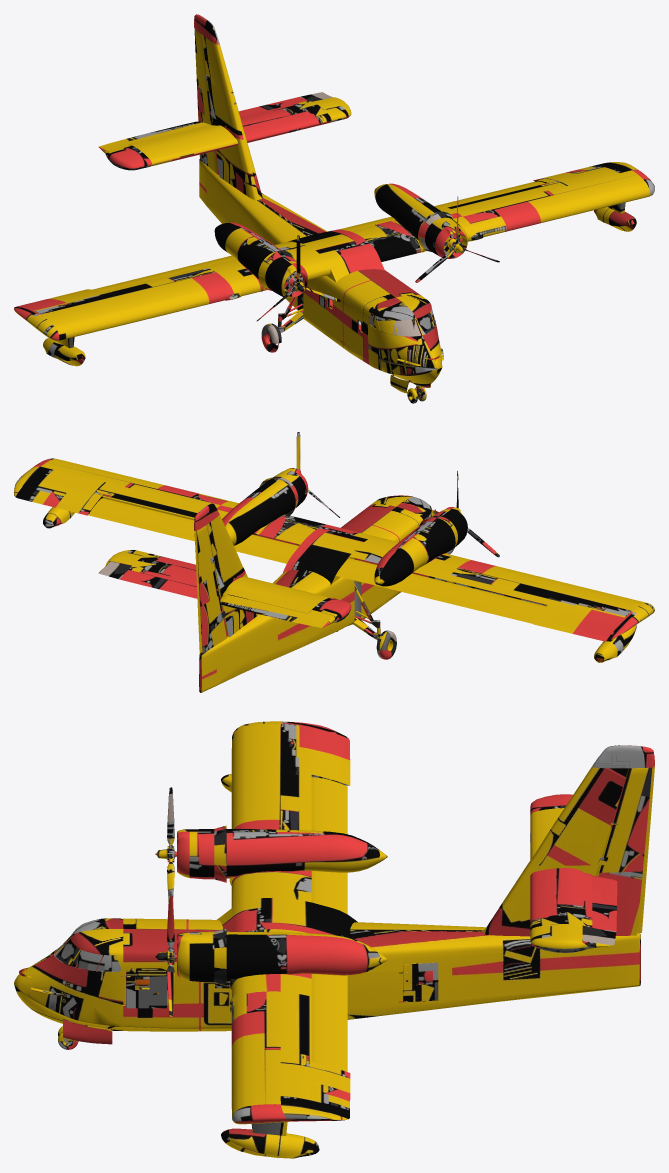
Rendered from canadair.glb.
The picture shows the model from 3 angles, top to bottom: view 1: azimuth 30°, elevation 25°; view 2: azimuth 150°, elevation 25°; view 3: azimuth 270°, elevation 25°; orthographic projection. The views are drawn at different scales.
Parts seen in each view (by area): view 1: Base_Canadair_Mat_B_0, Base_Canadair_Mat_A_0; view 2: Base_Canadair_Mat_B_0, Base_Canadair_Mat_A_0; view 3: Base_Canadair_Mat_B_0, Base_Canadair_Mat_A_0.
Boxes of the visible parts, x1=… form: Base_Canadair_Mat_B_0: x1=14, y1=29, x2=654, y2=403; Base_Canadair_Mat_A_0: x1=43, y1=14, x2=636, y2=393; Base_Canadair_Mat_B_0: x1=14, y1=432, x2=654, y2=659; Base_Canadair_Mat_A_0: x1=43, y1=495, x2=636, y2=692; Base_Canadair_Mat_B_0: x1=19, y1=721, x2=654, y2=1124; Base_Canadair_Mat_A_0: x1=14, y1=745, x2=654, y2=1158.
Size of the model in its own units: 27.82 by 9.91 by 19.11.
2 materials, 2 textured.
